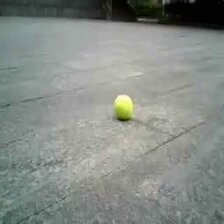tennis: (114, 95, 134, 118)
